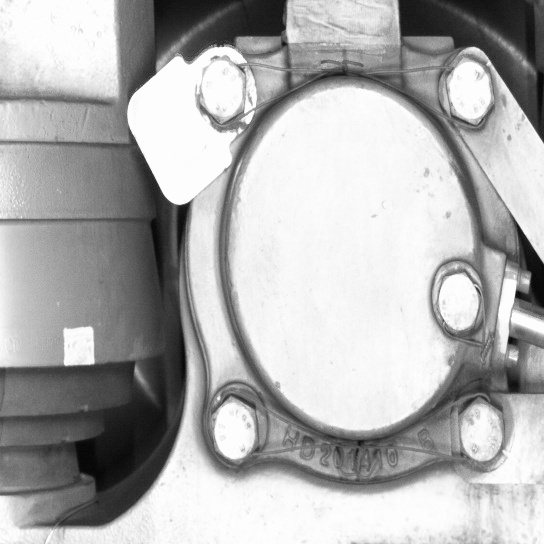IronWire: (184, 45, 502, 134), (200, 385, 515, 473)
Screw: (184, 45, 257, 132), (434, 46, 500, 134), (448, 390, 514, 471), (200, 386, 261, 471), (427, 263, 485, 339)
